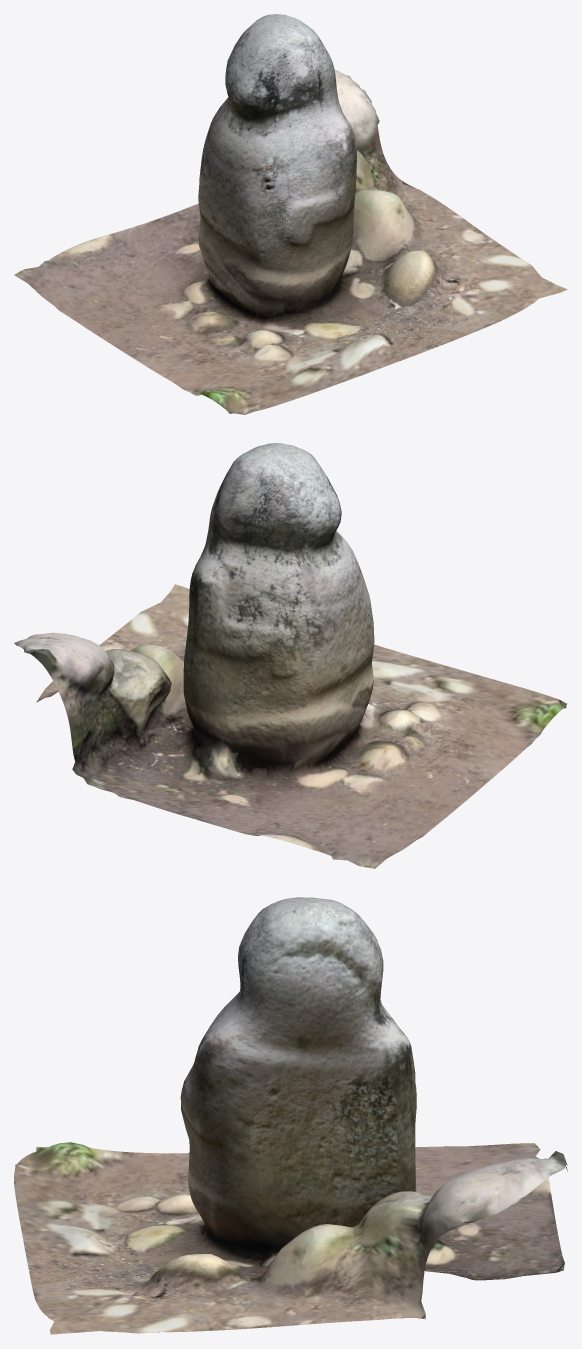
3 renders of one model, top to bottom at view 1: azimuth 30°, elevation 25°; view 2: azimuth 150°, elevation 25°; view 3: azimuth 270°, elevation 25°, orthographic. The views are drawn at different scales.
Parts seen in each view (by area): view 1: Object; view 2: Object; view 3: Object.
Boxes of the visible parts, box(x1,y1,x2,y2) form: Object: box(14, 14, 567, 414); Object: box(14, 443, 567, 868); Object: box(14, 897, 567, 1334).
Bounding box in the file's own units: 1.31 × 0.9439 × 1.32.
1 material, 1 textured.
